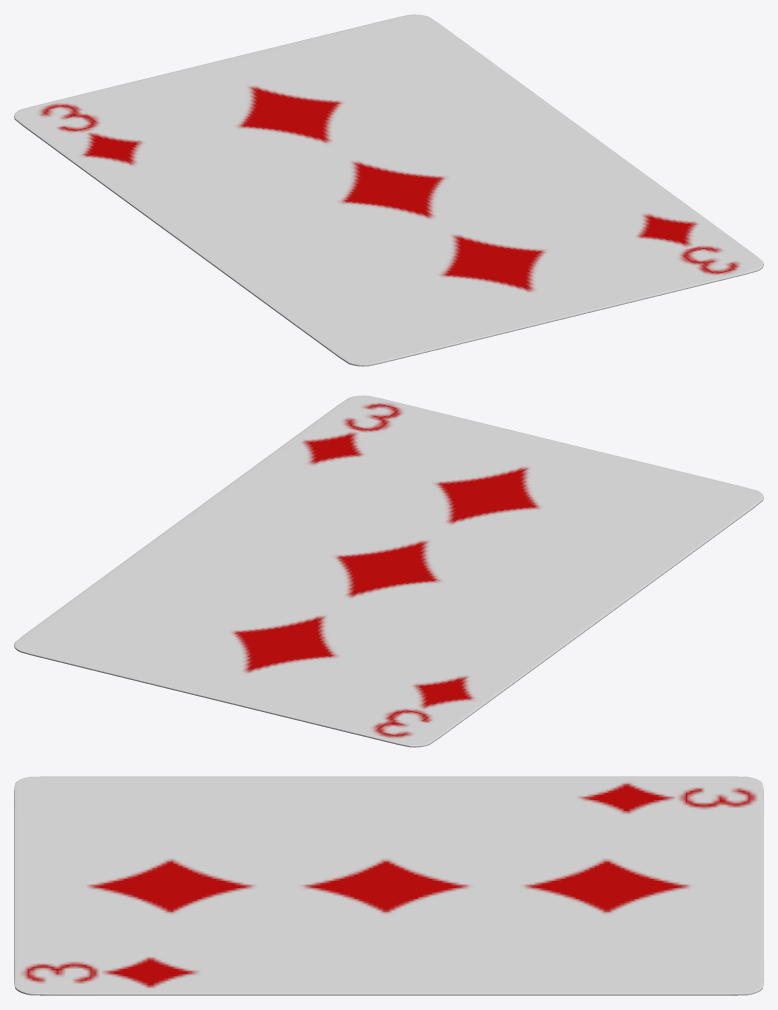
Rendered from three_of_diamonds.fbx.
3 views of the same model, one above another, from view 1: azimuth 30°, elevation 25°; view 2: azimuth 150°, elevation 25°; view 3: azimuth 270°, elevation 25° (orthographic). The views are drawn at different scales.
Visible parts, largest first — view 1: three_of_diamonds; view 2: three_of_diamonds; view 3: three_of_diamonds.
Part boxes in pixels (left/top/right/bottom): three_of_diamonds: left=14, top=14, right=763, bottom=366; three_of_diamonds: left=14, top=395, right=763, bottom=747; three_of_diamonds: left=14, top=776, right=763, bottom=995.
Bounding box in the file's own units: 589 × 2.4 × 856.
